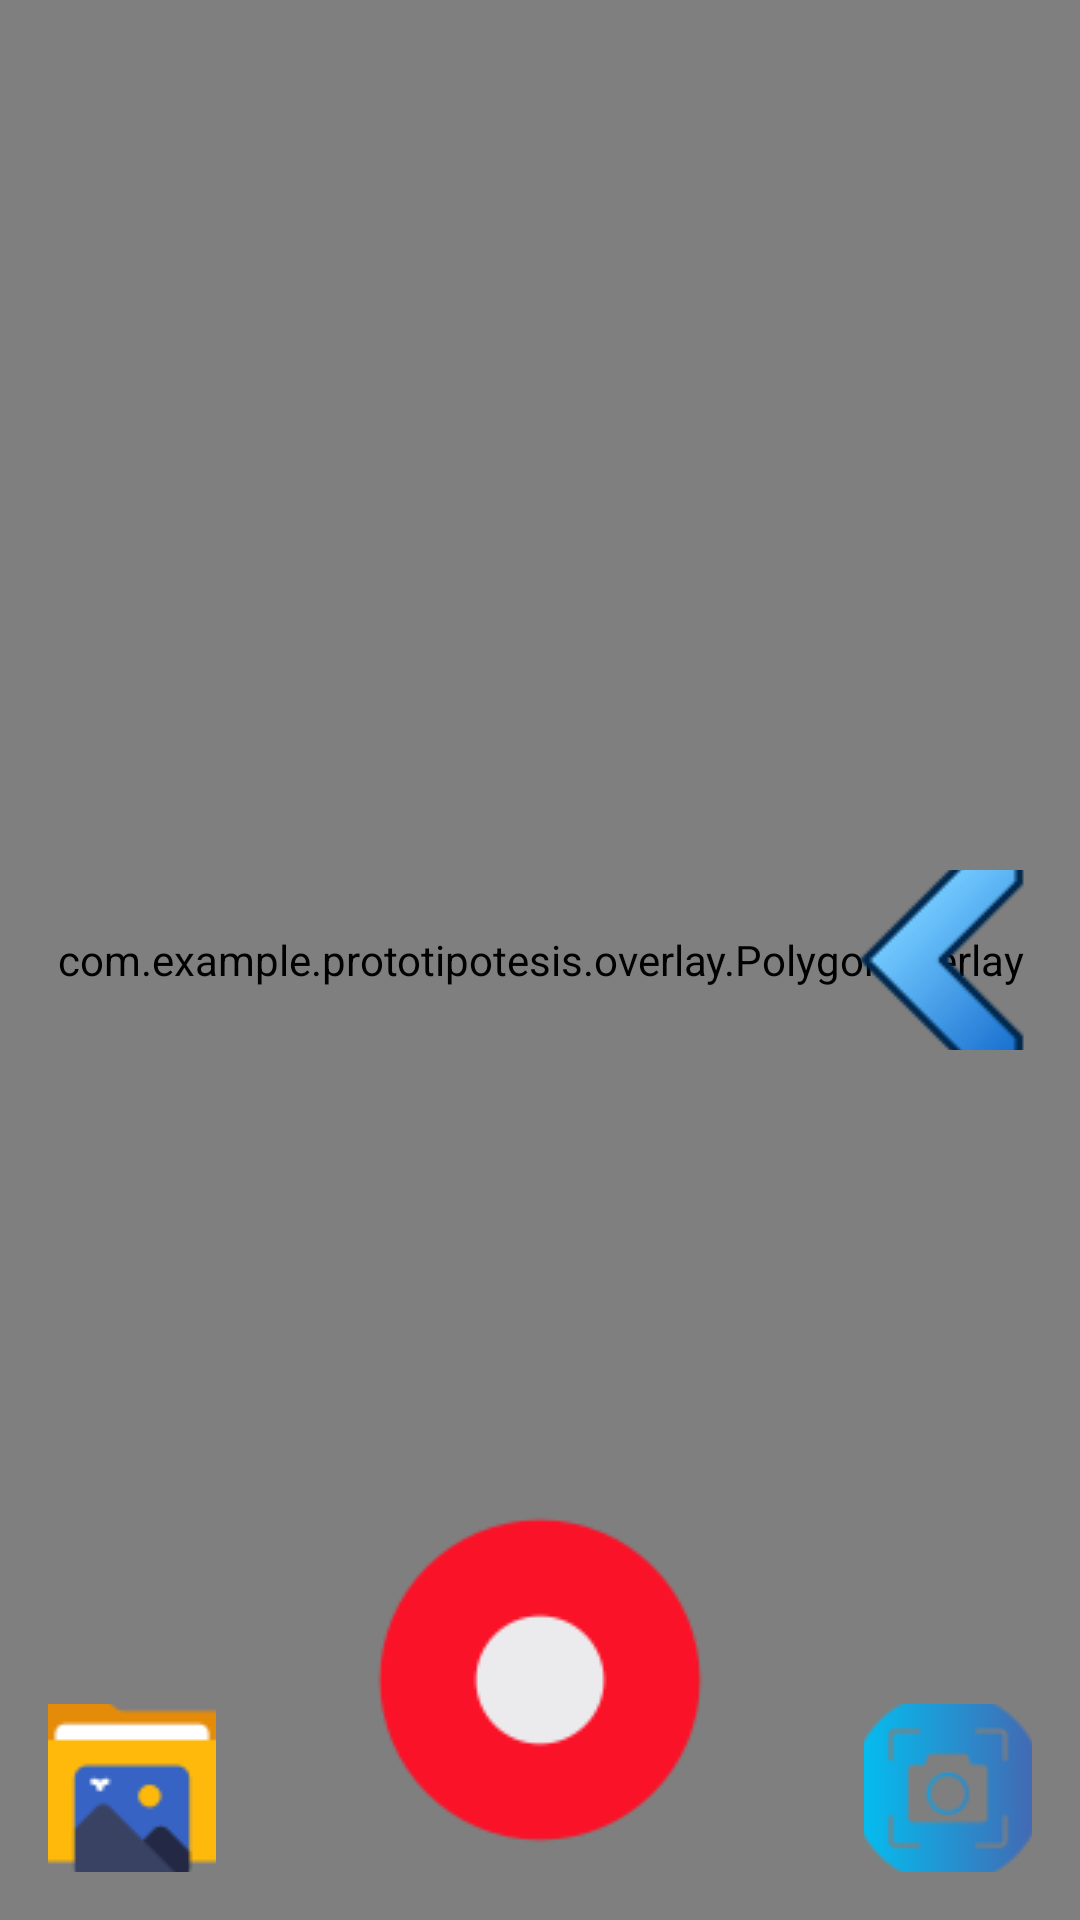

Icons on this 1080*1920 Android screen, each with the point to tap as [x,y]:
Abrir galería de fotos: [132,1788]
Capturar imagen: [948,1788]
Grabar: [540,1680]
